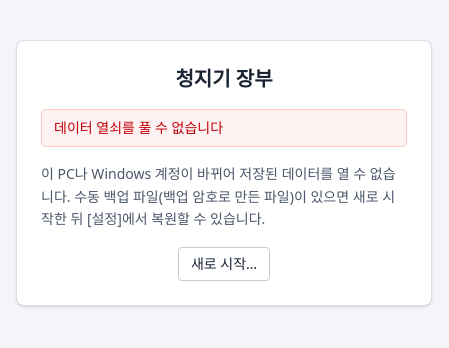
Test case: AuthGate › 열쇠를 잃었으면 안내하고, 두 번 확인한 뒤에만 모두 지우고 새로 시작한다
Later steps or results of the test are not shown.
Expected: the message reads "데이터 열쇠를 풀 수 없습니다", 54,118 -> 223,137
Click the button "새로 시작…" at (224, 264), box 178,247 -> 270,281
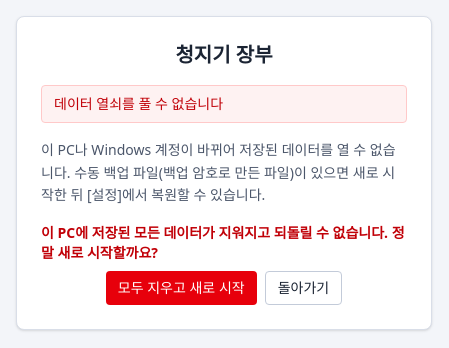
Now the text "이 PC에 저장된 모든 데이터가 지워지고 되돌릴 수 없습니다. 정말 새로 시작할까요?" is shown, box 41,223 -> 407,263
Click the button "돌아가기" at (303, 288), box 265,271 -> 342,305
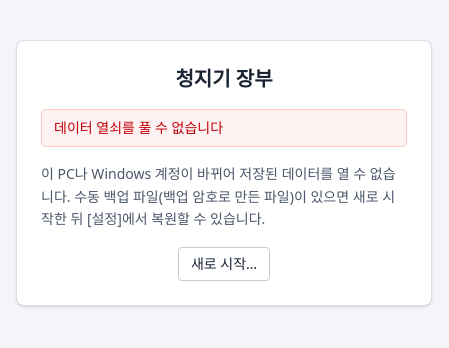
Now the text "되돌릴 수 없습니다" is gone
